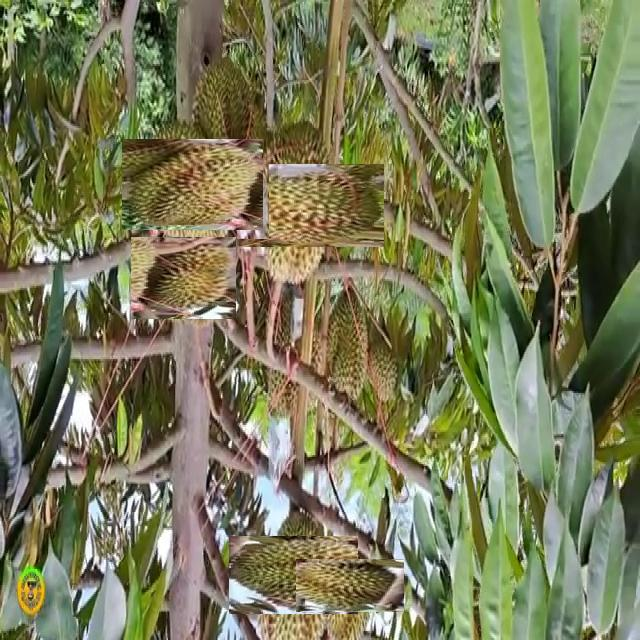durian: (232, 141, 362, 270), (190, 53, 270, 239), (134, 126, 251, 243), (241, 523, 345, 627), (136, 231, 230, 325), (322, 279, 373, 407), (310, 546, 390, 626), (365, 339, 401, 406)
